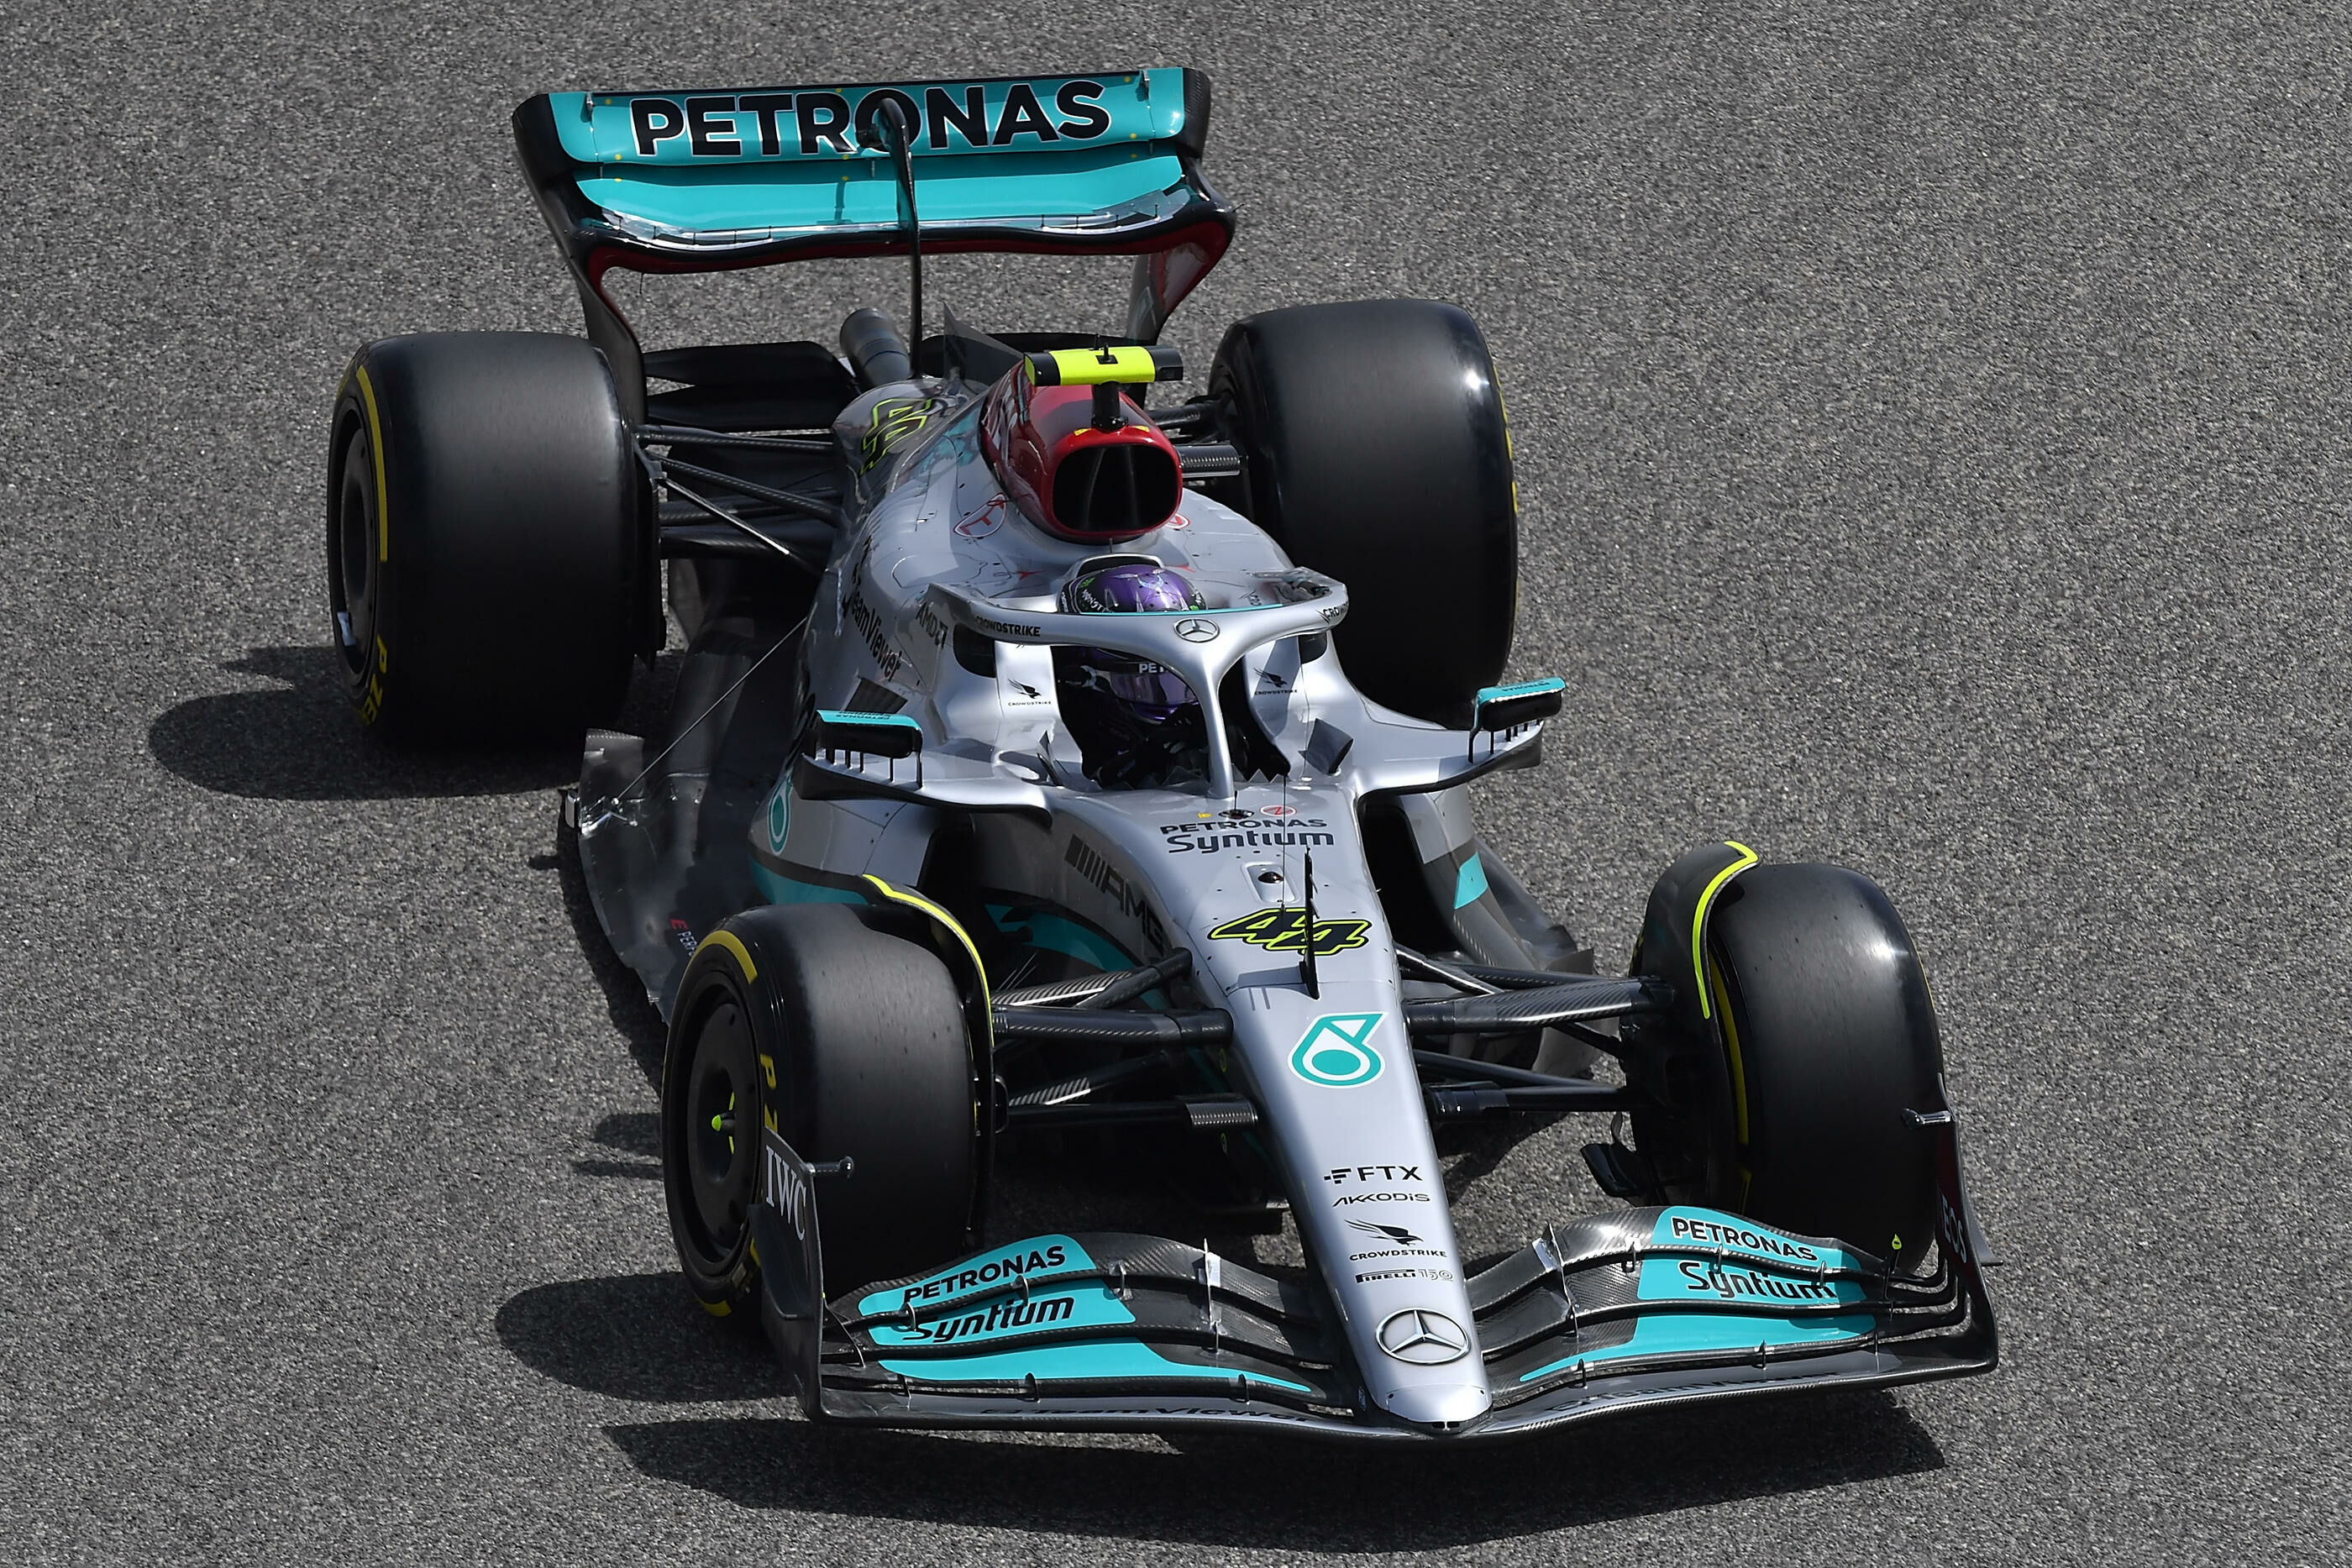Formule 1: (329, 75, 2002, 1454)
